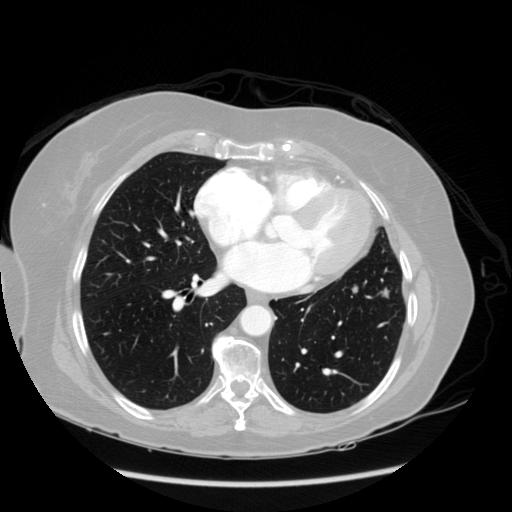nodule: (348, 282, 362, 296)
